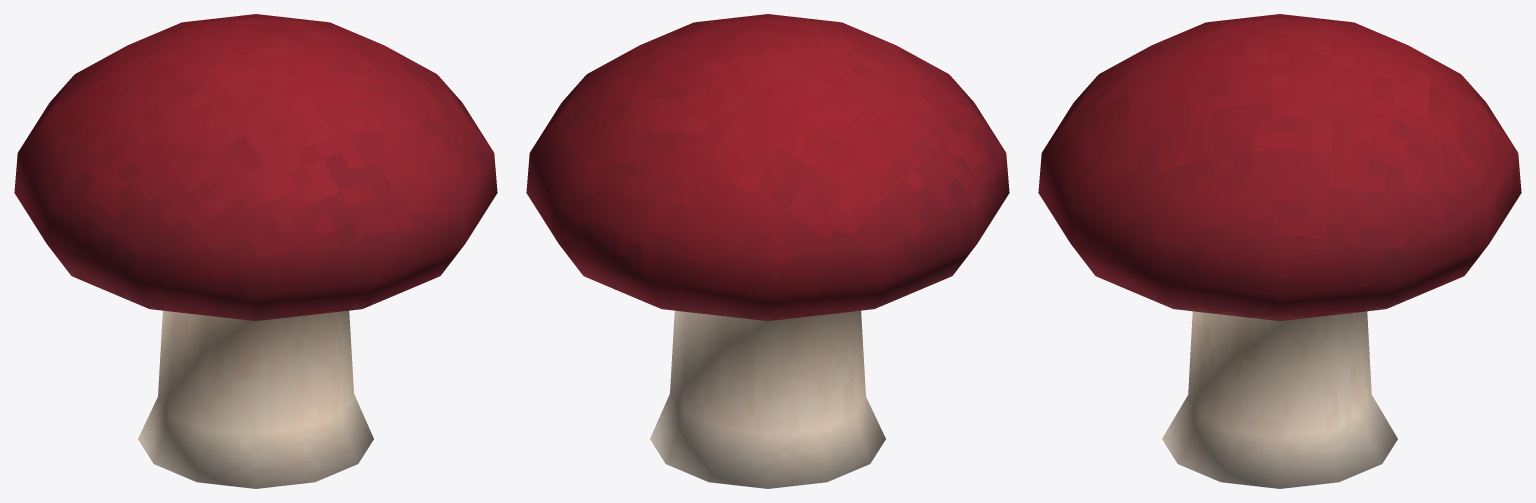
File: Mushroom_Dark_Red.glb
3 renders of one model, left to right at view 1: azimuth 30°, elevation 25°; view 2: azimuth 150°, elevation 25°; view 3: azimuth 270°, elevation 25°, orthographic.
Parts seen in each view (by area): view 1: Sphere.018; view 2: Sphere.018; view 3: Sphere.018.
Boxes of the visible parts, x1,y1,x2,y2 form: Sphere.018: (14,14,497,488); Sphere.018: (526,14,1009,488); Sphere.018: (1038,14,1521,488).
Bounding box in the file's own units: 0.2275 × 0.2205 × 0.2275.
Materials: 2 (2 with a texture image).
